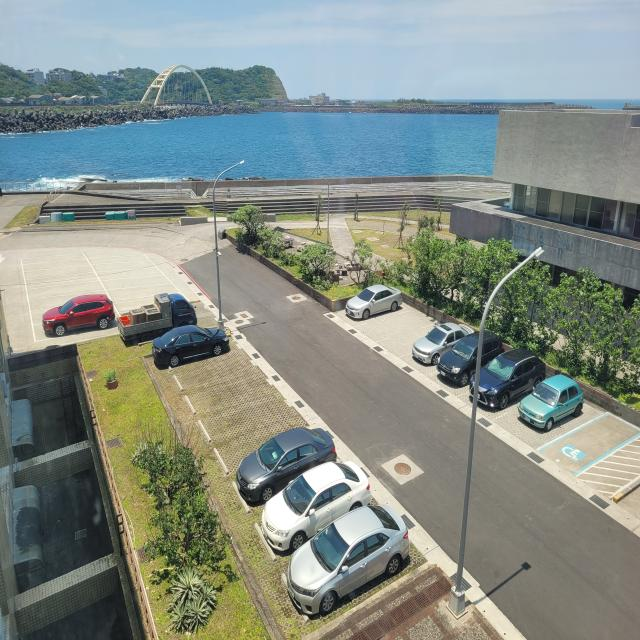car: (282, 504, 415, 624), (257, 457, 376, 555), (228, 424, 338, 504), (472, 349, 545, 410), (517, 372, 586, 432), (113, 292, 198, 339), (435, 329, 502, 385), (405, 317, 481, 366), (153, 324, 230, 366), (42, 290, 117, 332), (342, 284, 407, 320)
